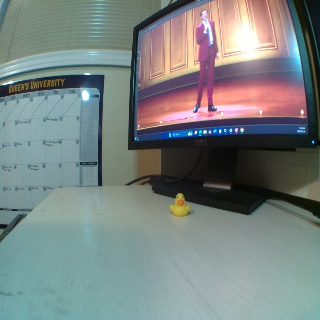duck_regular: (170, 192, 190, 217)
